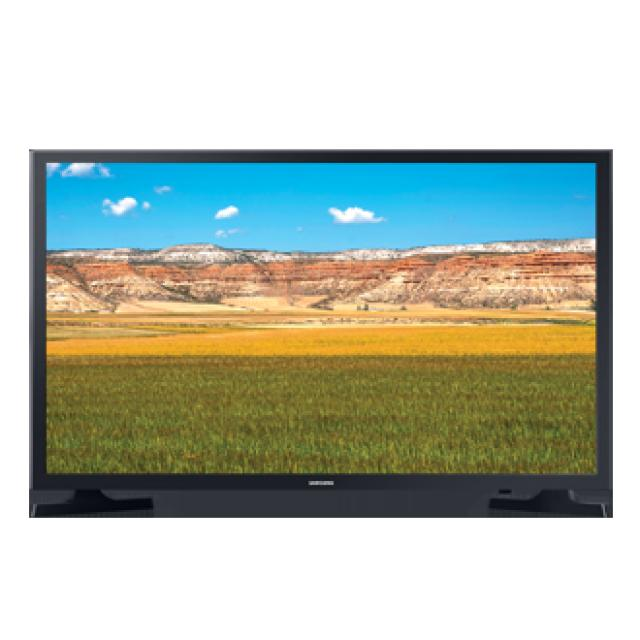electronics: (29, 149, 607, 512), (93, 500, 112, 510), (128, 502, 136, 512), (35, 506, 37, 512), (122, 501, 124, 506), (594, 508, 598, 510), (54, 496, 56, 498)
